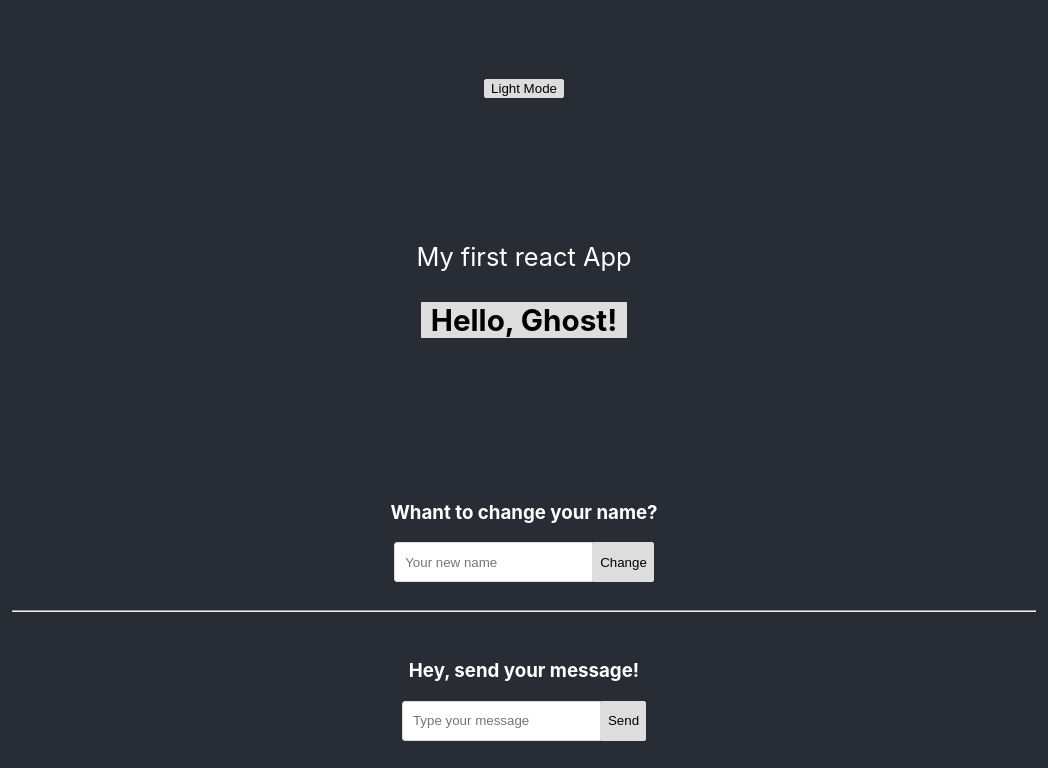
Test: App › App testing changeName funct
This screenshot has width=1048, height=768.
Type "NewName" into the field with placeholder "Your new name" at (494, 562), box top-left (394, 542), bottom-right (593, 582)
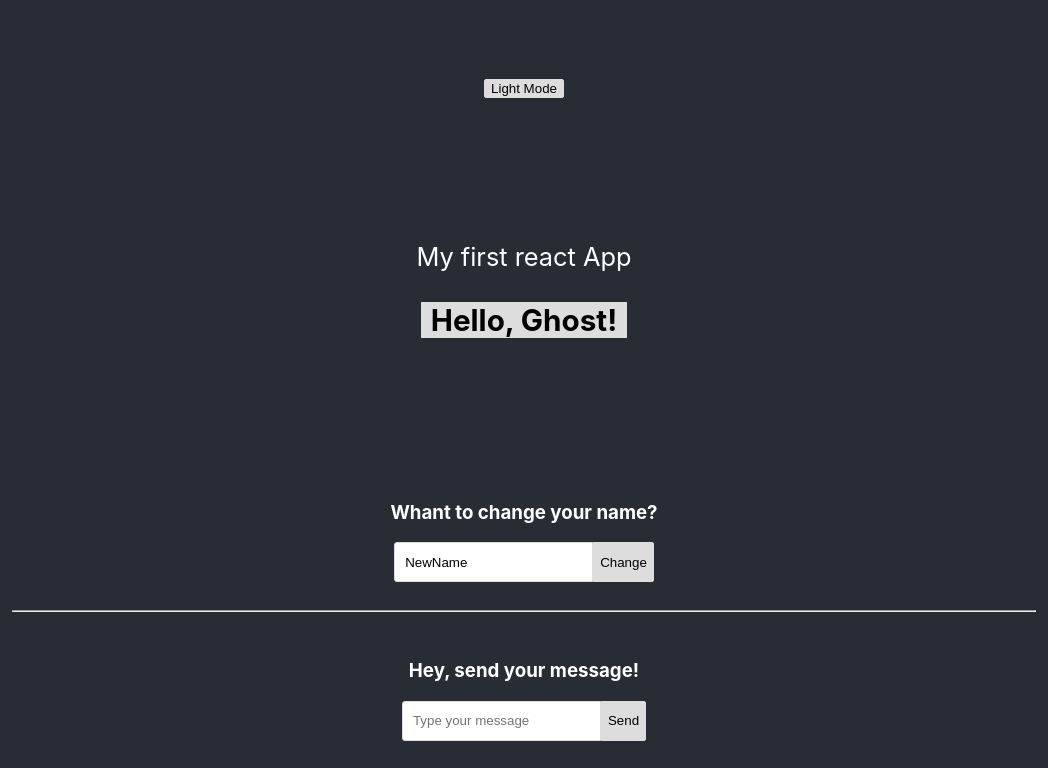
Click the button "Change" at (623, 562), box top-left (593, 542), bottom-right (654, 582)
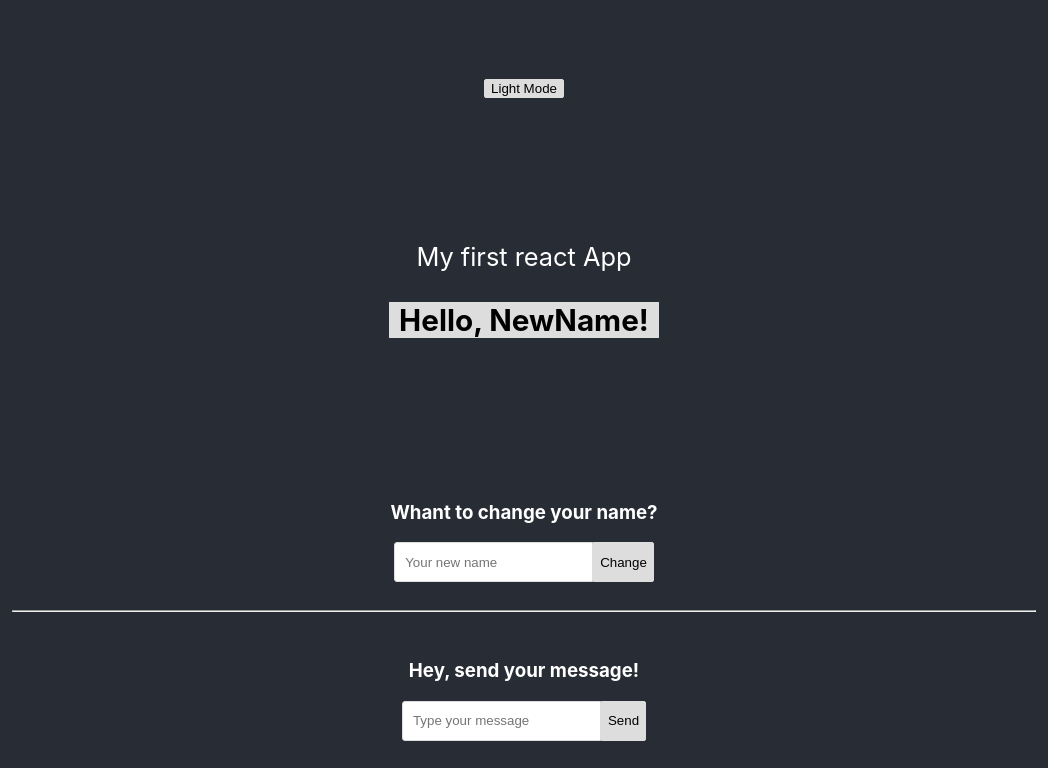
Result: the heading with test id "greetings" reads "Hello, NewName!" at top-left (389, 302), bottom-right (659, 338)
